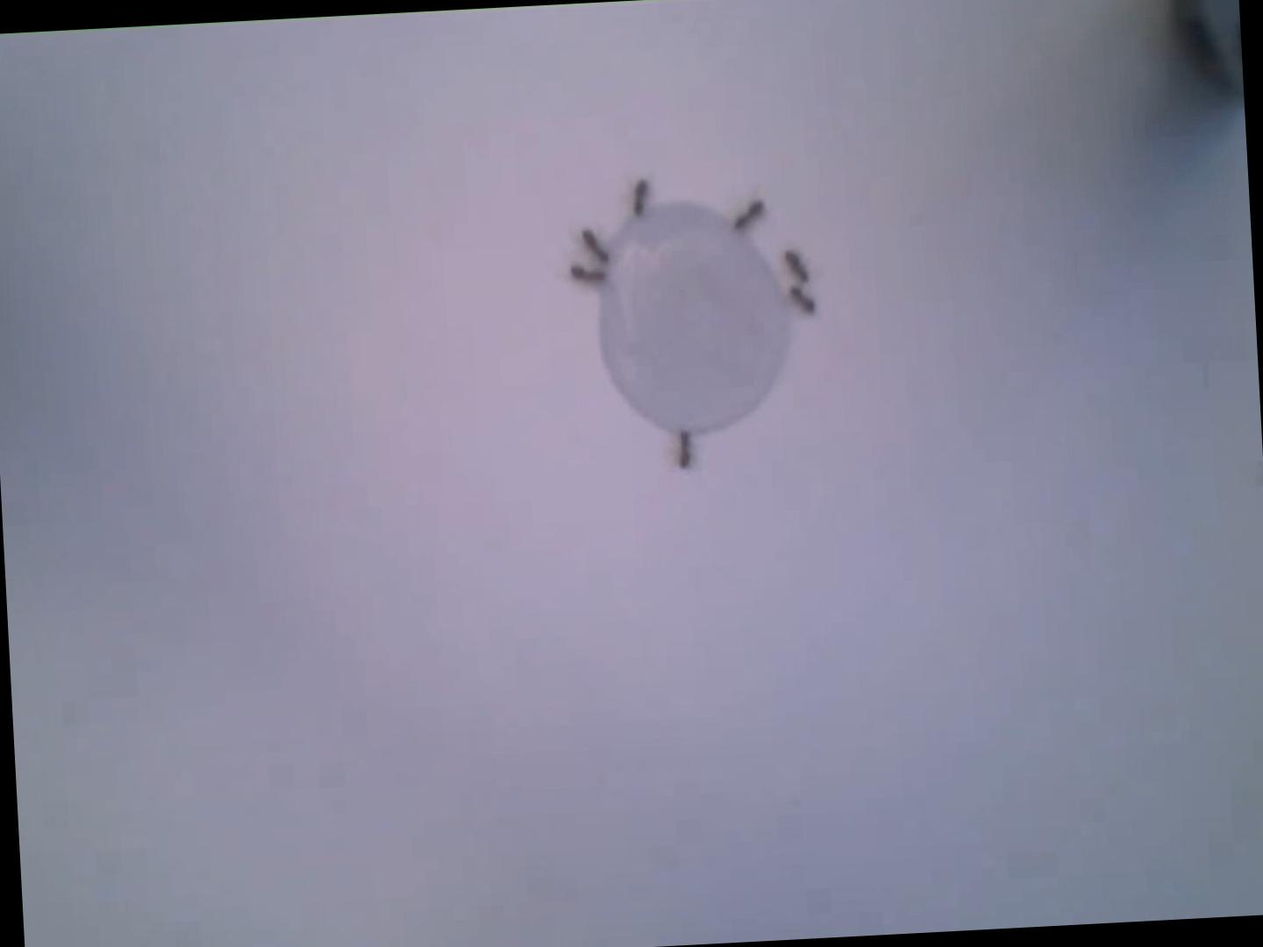Ant: (728, 199, 762, 231), (566, 260, 604, 286), (579, 228, 605, 266), (781, 248, 808, 284), (626, 177, 649, 215), (785, 283, 813, 314), (671, 430, 691, 468)
